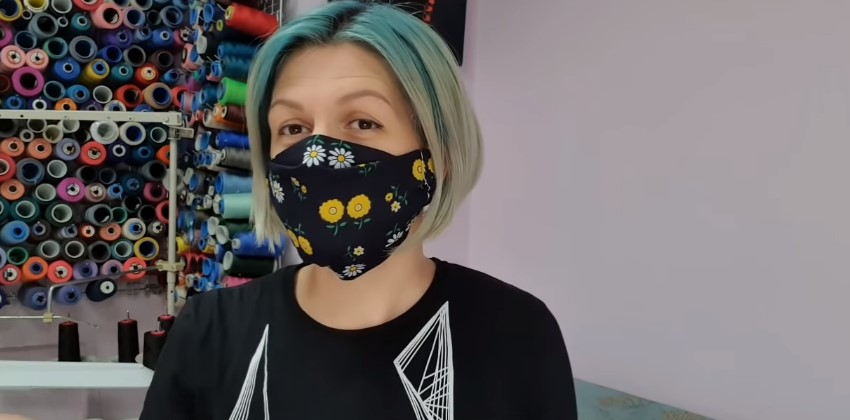face_with_mask: (247, 11, 462, 287)
